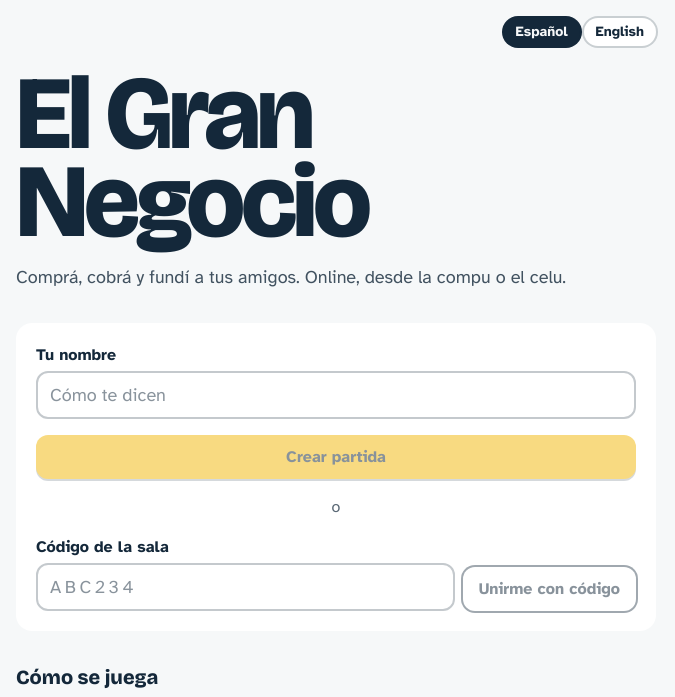
it: idioma (M9) › el selector cambia toda la app a inglés y lo recuerda
Expected: the button "Crear partida" is shown, left=36, top=435, right=636, bottom=479
Click the button "English".
click(620, 32)  # box left=584, top=18, right=656, bottom=46
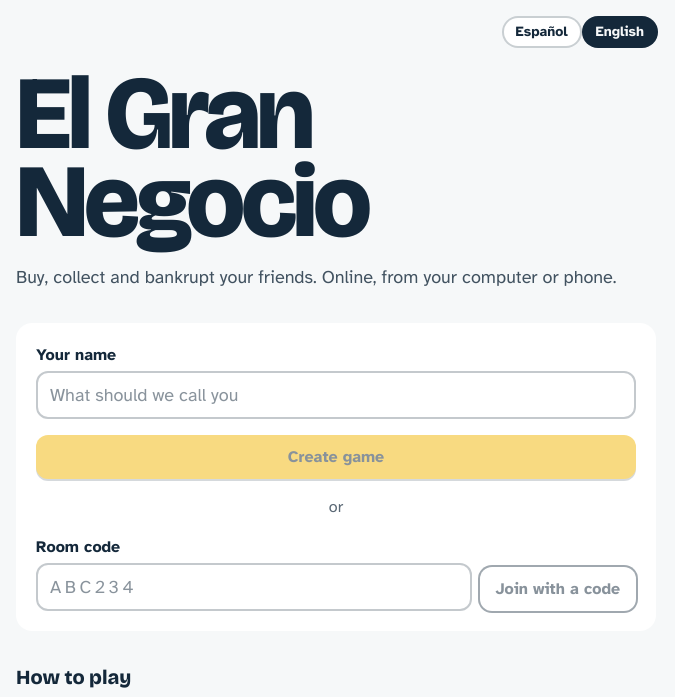
Expected: the button "Create game" is shown, left=36, top=435, right=636, bottom=479
